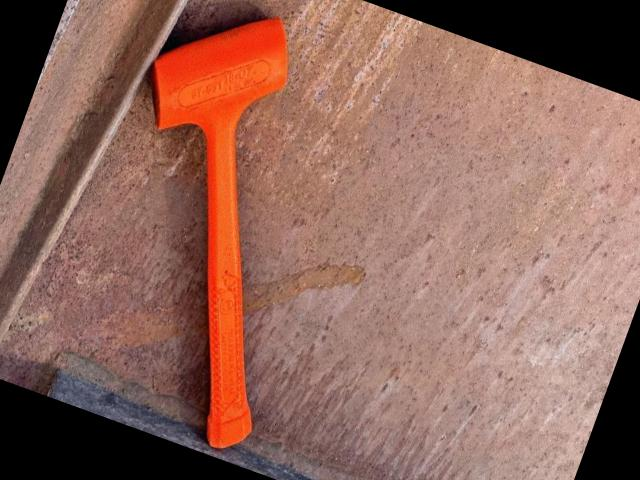hammer: (34, 0, 389, 458)
